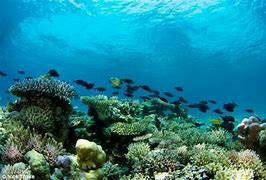bleached_corals: (0, 113, 65, 180), (180, 144, 266, 180), (82, 97, 132, 127), (51, 155, 104, 180), (73, 140, 108, 174), (2, 163, 34, 180)
